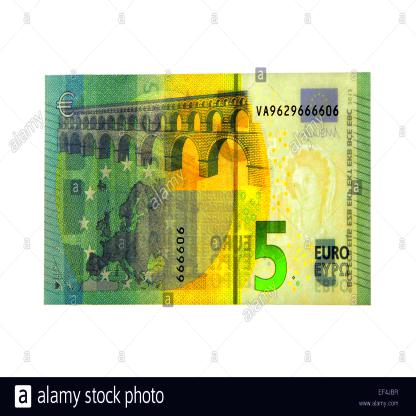euro_banknote: (45, 71, 374, 307)
